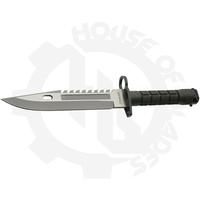knife: (2, 75, 200, 119)
